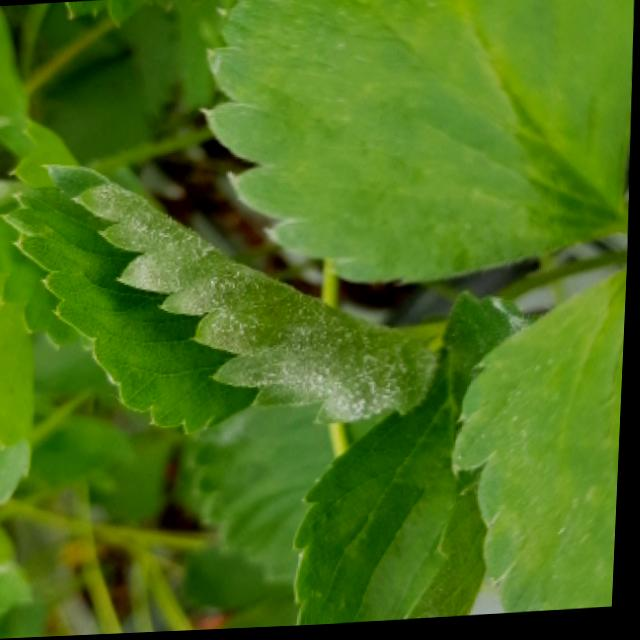Powdery Mildew Leaf: (0, 161, 446, 436)
